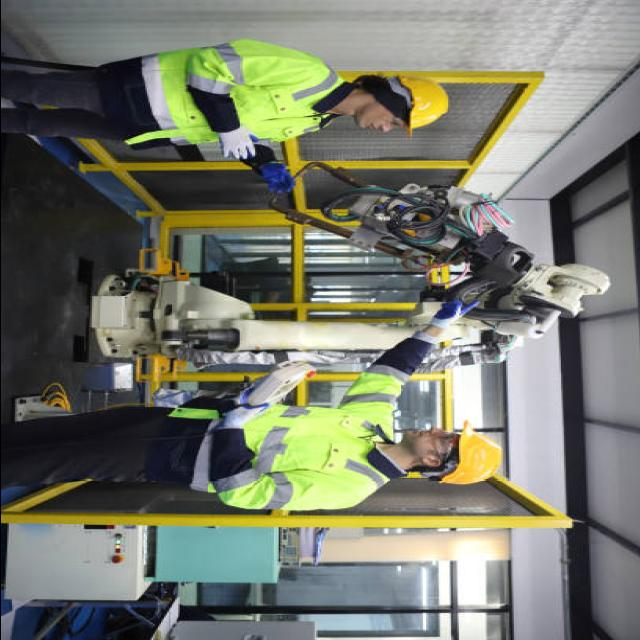Robotic-arm: (82, 174, 612, 371)
